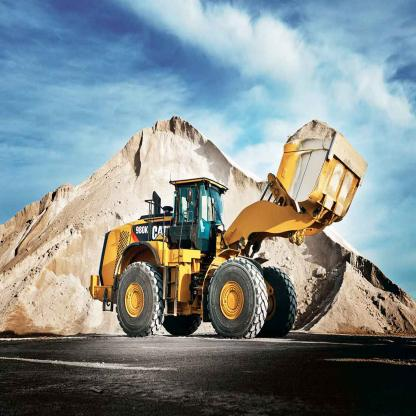bull_dozer/loader/grader: (88, 99, 372, 341)
